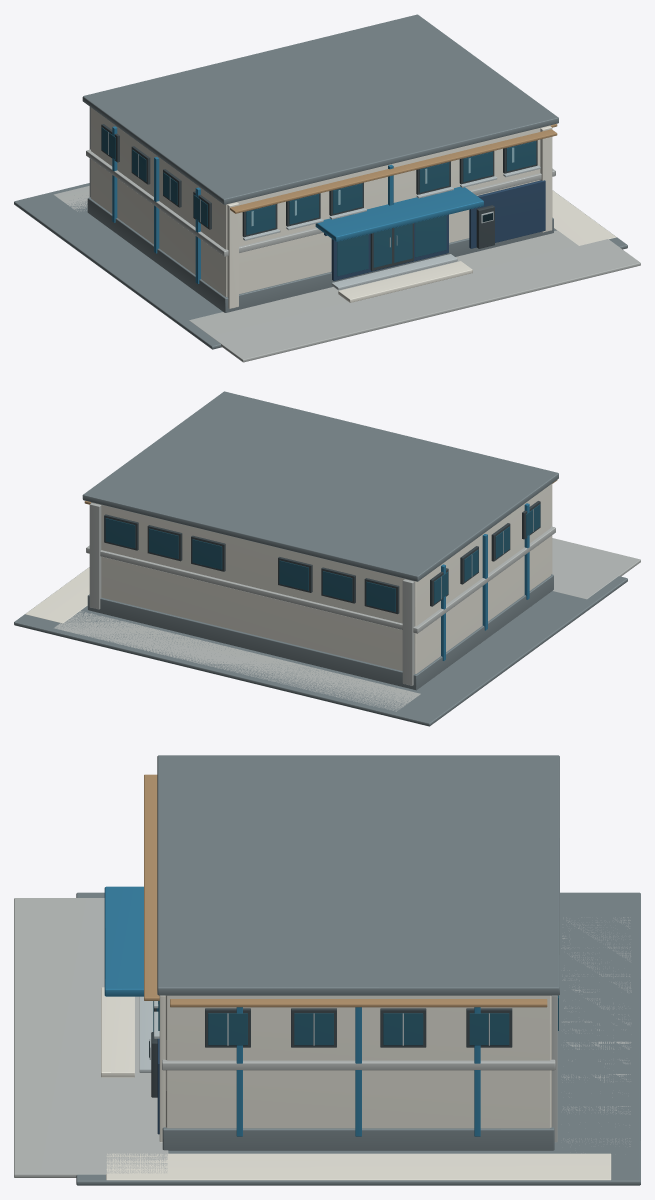
File: BANK_BUILDING.fbx
3 renders of one model, top to bottom at view 1: azimuth 30°, elevation 25°; view 2: azimuth 150°, elevation 25°; view 3: azimuth 270°, elevation 25°, orthographic. The views are drawn at different scales.
Visible parts, largest first — view 1: Roof slab, Front entrance forecourt, Main bank building mass, Bank site foundation, Ground floor dark plinth, Entrance canopy, ATM bay dark recess, Front continuous sunshade, First floor slab band, Entrance steps, Side pedestrian pavement, Front ivory corner pier (+16 smaller); view 2: Roof slab, Main bank building mass, Bank site foundation, Rear service apron, Ground floor dark plinth, First floor slab band, Front entrance forecourt, Side pedestrian pavement, Rear corner pier, Rear corner pier.001, Upper rear glazing.001, Upper rear glazing.003 (+5 smaller); view 3: Roof slab, Main bank building mass, Front entrance forecourt, Bank site foundation, Side pedestrian pavement, Ground floor dark plinth, Entrance canopy, First floor slab band, Right side sunshade, Front continuous sunshade, Entrance steps, Side upper glazing.006 (+13 smaller).
Boxes of the visible parts, x1=… form: Roof slab: x1=82, y1=14, x2=558, y2=204; Front entrance forecourt: x1=189, y1=230, x2=640, y2=362; Main bank building mass: x1=91, y1=107, x2=550, y2=296; Bank site foundation: x1=14, y1=183, x2=627, y2=349; Ground floor dark plinth: x1=87, y1=197, x2=553, y2=312; Entrance canopy: x1=315, y1=186, x2=483, y2=241; ATM bay dark recess: x1=469, y1=180, x2=545, y2=248; Front continuous sunshade: x1=230, y1=129, x2=557, y2=213; First floor slab band: x1=86, y1=149, x2=555, y2=256; Entrance steps: x1=338, y1=261, x2=472, y2=302; Side pedestrian pavement: x1=552, y1=190, x2=616, y2=245; Front ivory corner pier: x1=227, y1=202, x2=238, y2=308; Roof slab: x1=82, y1=391, x2=558, y2=581; Main bank building mass: x1=91, y1=484, x2=550, y2=673; Bank site foundation: x1=14, y1=568, x2=627, y2=726; Rear service apron: x1=54, y1=611, x2=420, y2=711; Ground floor dark plinth: x1=87, y1=574, x2=553, y2=690; First floor slab band: x1=86, y1=526, x2=555, y2=633; Front entrance forecourt: x1=552, y1=538, x2=640, y2=599; Side pedestrian pavement: x1=25, y1=567, x2=89, y2=623; Rear corner pier: x1=402, y1=579, x2=414, y2=685; Rear corner pier.001: x1=89, y1=503, x2=101, y2=609; Upper rear glazing.001: x1=322, y1=571, x2=352, y2=601; Upper rear glazing.003: x1=192, y1=539, x2=222, y2=569; Roof slab: x1=157, y1=755, x2=559, y2=995; Main bank building mass: x1=165, y1=995, x2=551, y2=1128; Front entrance forecourt: x1=14, y1=898, x2=168, y2=1177; Bank site foundation: x1=76, y1=892, x2=640, y2=1185; Side pedestrian pavement: x1=106, y1=1153, x2=611, y2=1180; Ground floor dark plinth: x1=162, y1=1127, x2=554, y2=1150; Entrance canopy: x1=104, y1=886, x2=143, y2=996; First floor slab band: x1=162, y1=1059, x2=555, y2=1070; Right side sunshade: x1=170, y1=999, x2=547, y2=1007; Front continuous sunshade: x1=144, y1=774, x2=159, y2=1000; Entrance steps: x1=101, y1=987, x2=134, y2=1077; Side upper glazing.006: x1=383, y1=1013, x2=423, y2=1045.
Size of the model in its own units: 2300 by 634 by 2110.
